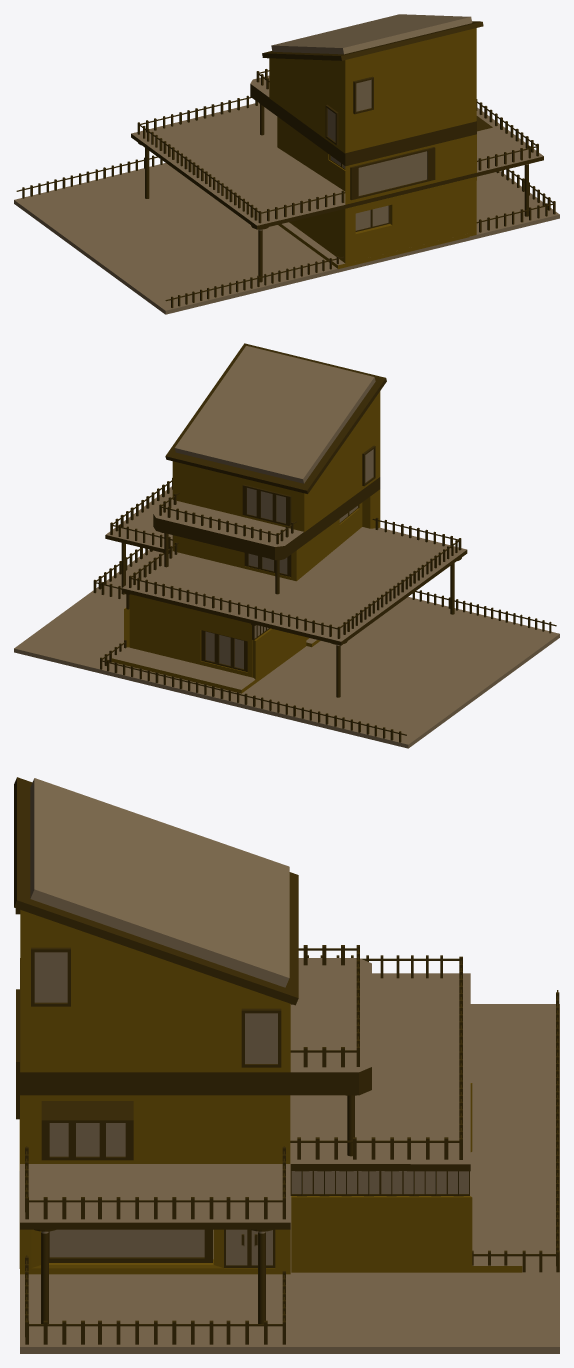
The model's file is House_Blocks.fbx.
The picture shows the model from 3 angles, top to bottom: view 1: azimuth 30°, elevation 25°; view 2: azimuth 150°, elevation 25°; view 3: azimuth 270°, elevation 25°; orthographic projection. The views are drawn at different scales.
Parts seen in each view (by area): view 1: Custom_Building_Draft_UV_02:pCube37, Custom_Building_Draft_UV_02:pCube57, Custom_Building_Draft_UV_02:pCube73, Custom_Building_Draft_UV_02:pCube72, Custom_Building_Draft_UV_02:pCube34, Custom_Building_Draft_UV_02:pCube58, Custom_Building_Draft_UV_02:pCube41, Custom_Building_Draft_UV_02:pCube46, Custom_Building_Draft_UV_02:pCube48, Custom_Building_Draft_UV_02:pCube1, Custom_Building_Draft_UV_02:pCube39, Custom_Building_Draft_UV_02:pCube61 (+14 smaller); view 2: Custom_Building_Draft_UV_02:pCube37, Custom_Building_Draft_UV_02:pCube58, Custom_Building_Draft_UV_02:pCube72, Custom_Building_Draft_UV_02:pCube73, Custom_Building_Draft_UV_02:pCube57, Custom_Building_Draft_UV_02:pCube66, Custom_Building_Draft_UV_02:pCube53, Custom_Building_Draft_UV_02:pCube49, Custom_Building_Draft_UV_02:pCube65, Custom_Building_Draft_UV_02:pCube61, Custom_Building_Draft_UV_02:pCube69, Custom_Building_Draft_UV_02:pCube46 (+12 smaller); view 3: Custom_Building_Draft_UV_02:pCube37, Custom_Building_Draft_UV_02:pCube58, Custom_Building_Draft_UV_02:pCube57, Custom_Building_Draft_UV_02:pCube66, Custom_Building_Draft_UV_02:pCube49, Custom_Building_Draft_UV_02:pCube41, Custom_Building_Draft_UV_02:pCube39, Custom_Building_Draft_UV_02:pCube72, Custom_Building_Draft_UV_02:pCube65, Custom_Building_Draft_UV_02:pCube47, Custom_Building_Draft_UV_02:pCube33, Custom_Building_Draft_UV_02:pCube51 (+12 smaller).
Boxes of the visible parts, x1,y1,x2,y2 form: Custom_Building_Draft_UV_02:pCube37: (131, 75, 476, 229); Custom_Building_Draft_UV_02:pCube57: (269, 28, 476, 153); Custom_Building_Draft_UV_02:pCube73: (90, 223, 296, 314); Custom_Building_Draft_UV_02:pCube72: (14, 168, 220, 258); Custom_Building_Draft_UV_02:pCube34: (351, 182, 469, 261); Custom_Building_Draft_UV_02:pCube58: (262, 14, 483, 60); Custom_Building_Draft_UV_02:pCube41: (428, 171, 559, 250); Custom_Building_Draft_UV_02:pCube46: (222, 218, 428, 282); Custom_Building_Draft_UV_02:pCube48: (350, 147, 435, 200); Custom_Building_Draft_UV_02:pCube1: (289, 176, 476, 263); Custom_Building_Draft_UV_02:pCube39: (476, 107, 543, 176); Custom_Building_Draft_UV_02:pCube61: (277, 117, 345, 191); Custom_Building_Draft_UV_02:pCube37: (121, 477, 467, 645); Custom_Building_Draft_UV_02:pCube58: (165, 343, 386, 493); Custom_Building_Draft_UV_02:pCube72: (277, 657, 483, 748); Custom_Building_Draft_UV_02:pCube73: (353, 602, 559, 692); Custom_Building_Draft_UV_02:pCube57: (172, 391, 380, 532); Custom_Building_Draft_UV_02:pCube66: (14, 593, 155, 684); Custom_Building_Draft_UV_02:pCube53: (129, 594, 252, 677); Custom_Building_Draft_UV_02:pCube49: (112, 608, 306, 693); Custom_Building_Draft_UV_02:pCube65: (145, 646, 351, 716); Custom_Building_Draft_UV_02:pCube61: (296, 502, 362, 580); Custom_Building_Draft_UV_02:pCube69: (102, 660, 406, 742); Custom_Building_Draft_UV_02:pCube46: (312, 596, 426, 657); Custom_Building_Draft_UV_02:pCube37: (20, 958, 470, 1171); Custom_Building_Draft_UV_02:pCube58: (14, 777, 298, 1005); Custom_Building_Draft_UV_02:pCube57: (20, 910, 290, 1072); Custom_Building_Draft_UV_02:pCube66: (289, 1232, 559, 1353); Custom_Building_Draft_UV_02:pCube49: (291, 1083, 522, 1272); Custom_Building_Draft_UV_02:pCube41: (20, 1274, 290, 1353); Custom_Building_Draft_UV_02:pCube39: (20, 1164, 290, 1229); Custom_Building_Draft_UV_02:pCube72: (470, 1004, 559, 1118); Custom_Building_Draft_UV_02:pCube65: (290, 1118, 559, 1232); Custom_Building_Draft_UV_02:pCube47: (41, 1101, 133, 1160); Custom_Building_Draft_UV_02:pCube33: (48, 1229, 212, 1262); Custom_Building_Draft_UV_02:pCube51: (290, 1171, 469, 1196).
Size of the model in its own units: 2014 by 1071 by 1356.
